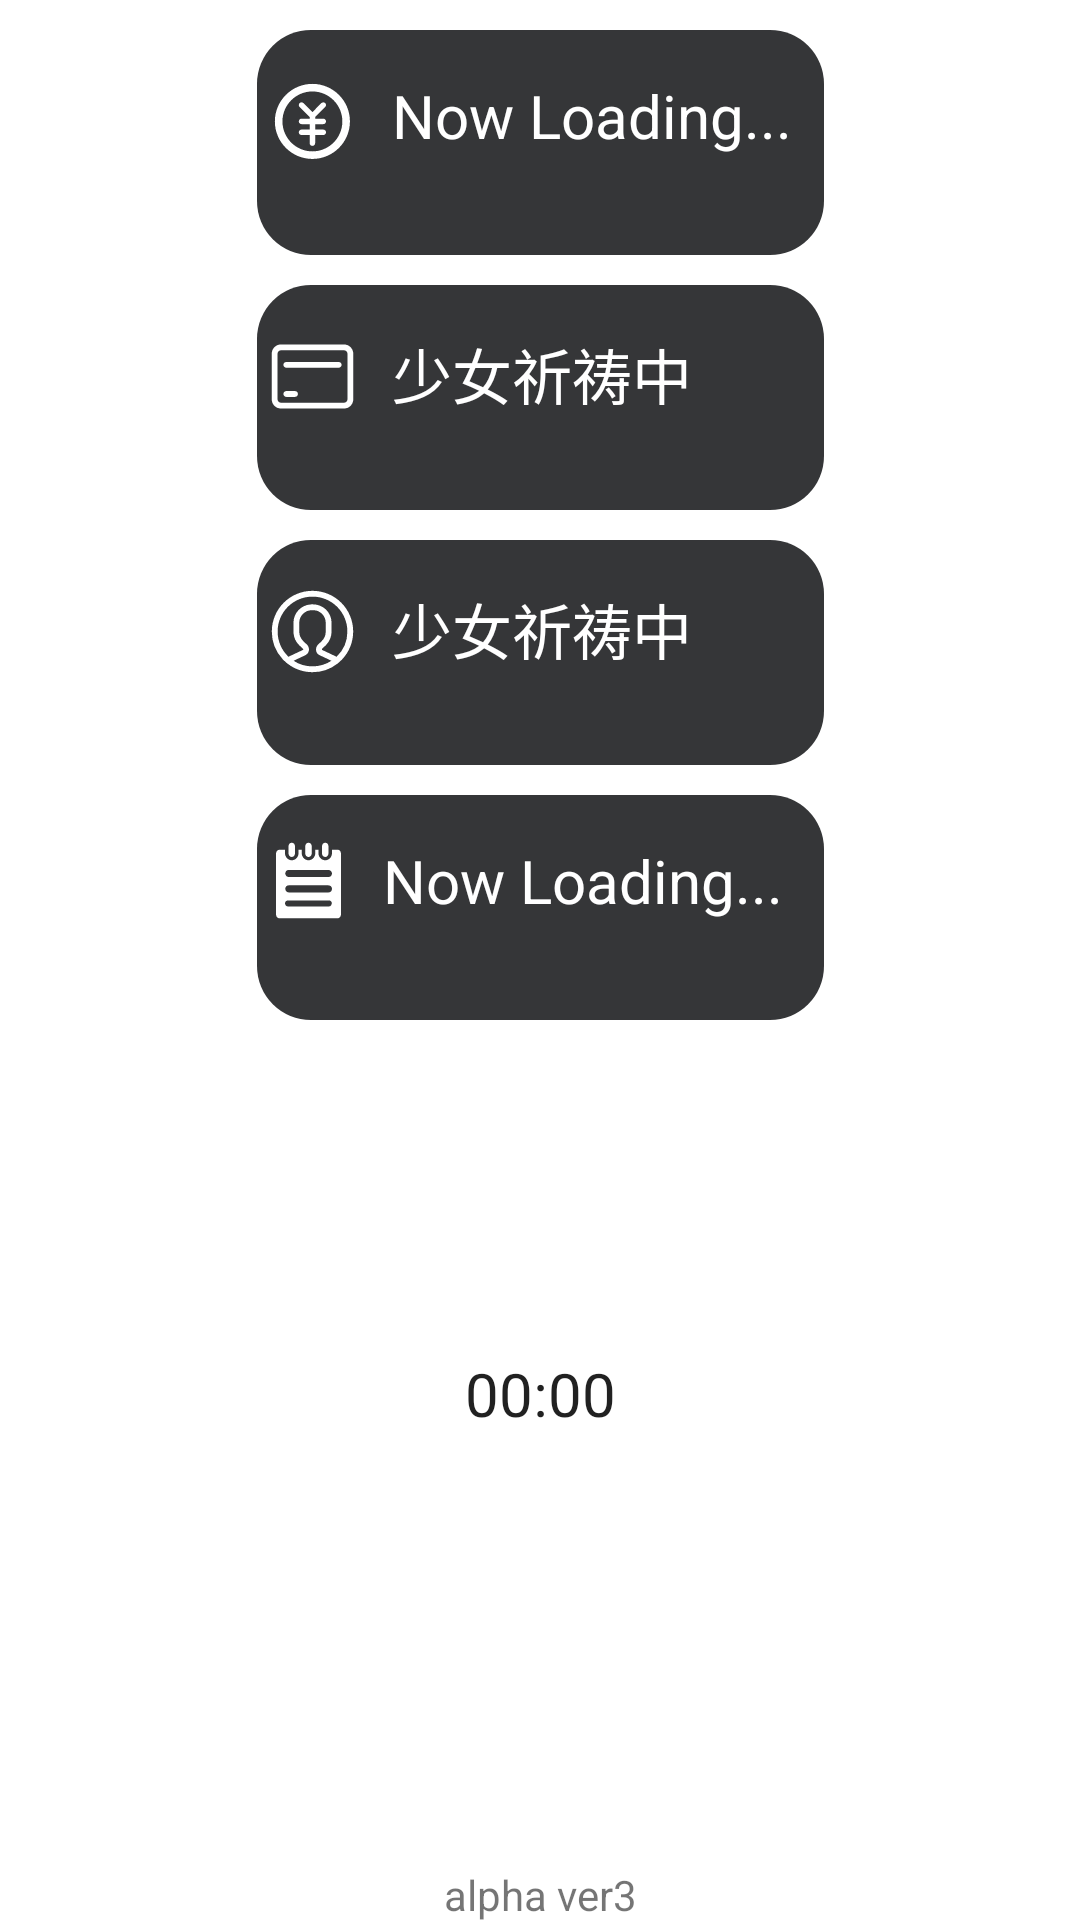

Icon bounding boxes for this 1080 × 1920 phone screenshot, format (x1, y1, x2, y2):
it balance: (274, 84, 350, 159)
it card: (271, 344, 354, 409)
it consumption count: (276, 842, 341, 919)
it person: (271, 590, 354, 673)
